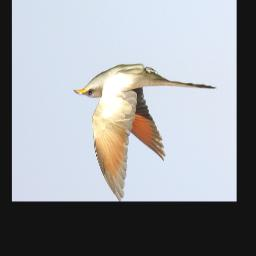Cuckoo: (74, 65, 216, 201)
